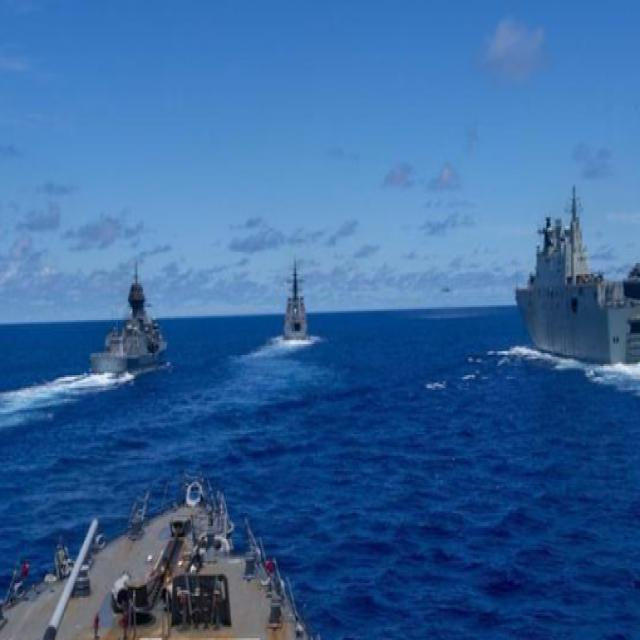navalvessels: (506, 161, 640, 369), (80, 264, 168, 384), (271, 252, 310, 347)
